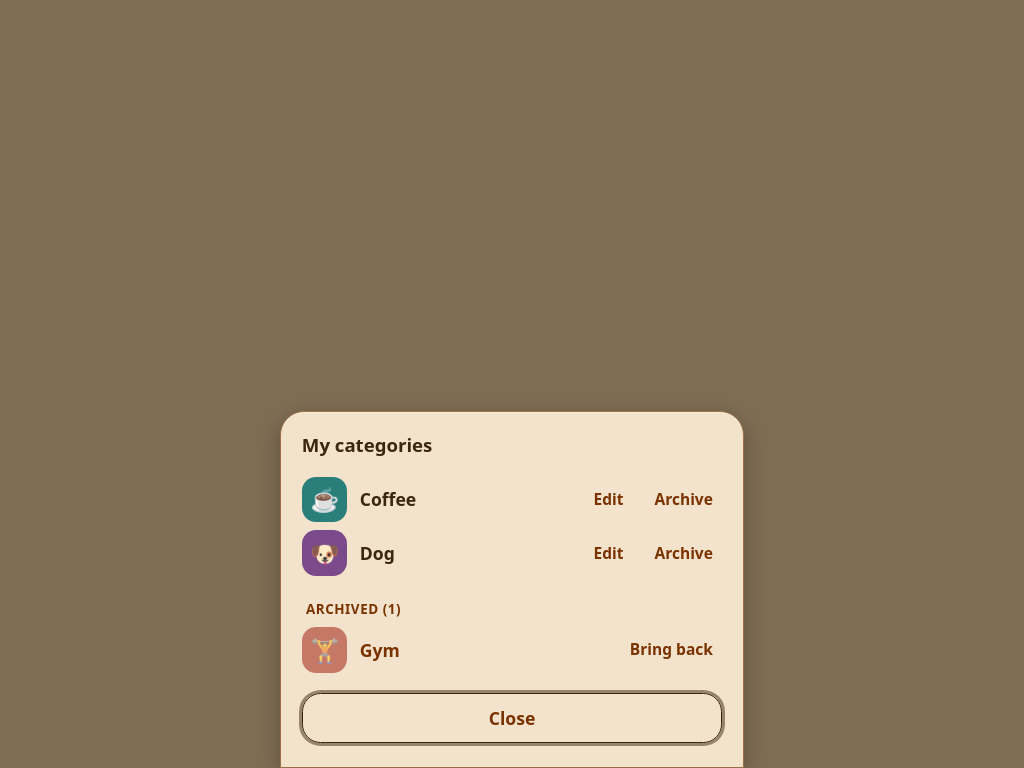
MyCategoriesSheet › editing › shows the CATEGORY_NAME_TAKEN text and marks the right field red
Click the button "Edit" in the row of "Coffee". click: (609, 499)
box: [584, 477, 633, 522]
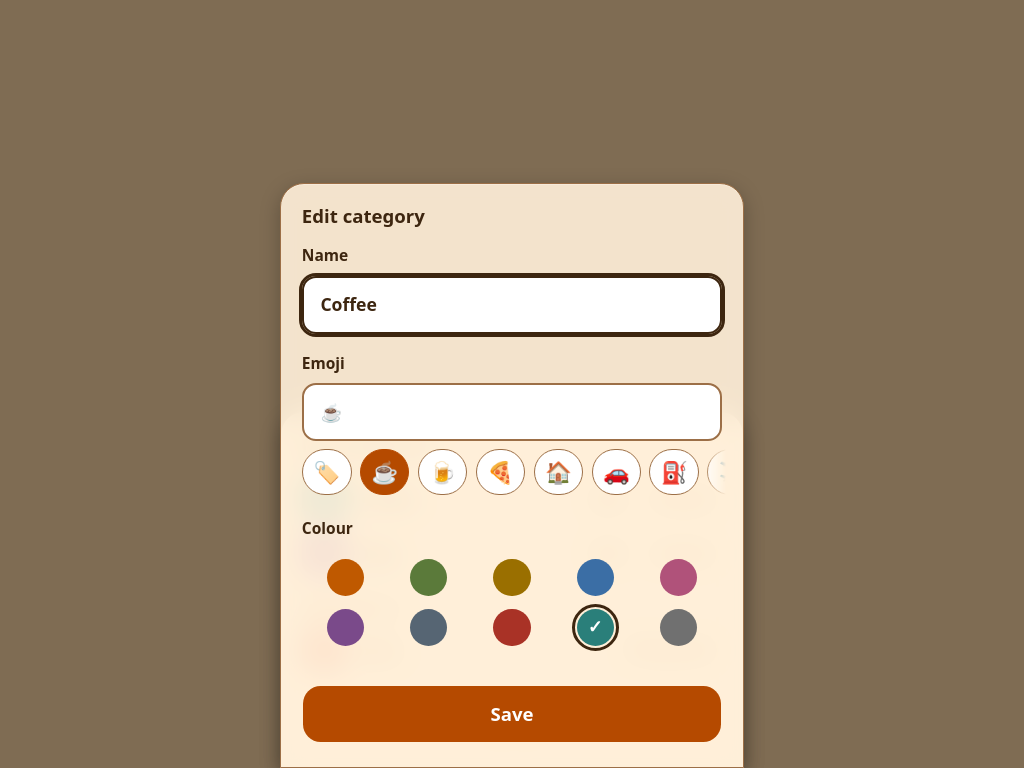
Click the button "Save". click: (512, 714)
box: [302, 685, 722, 743]
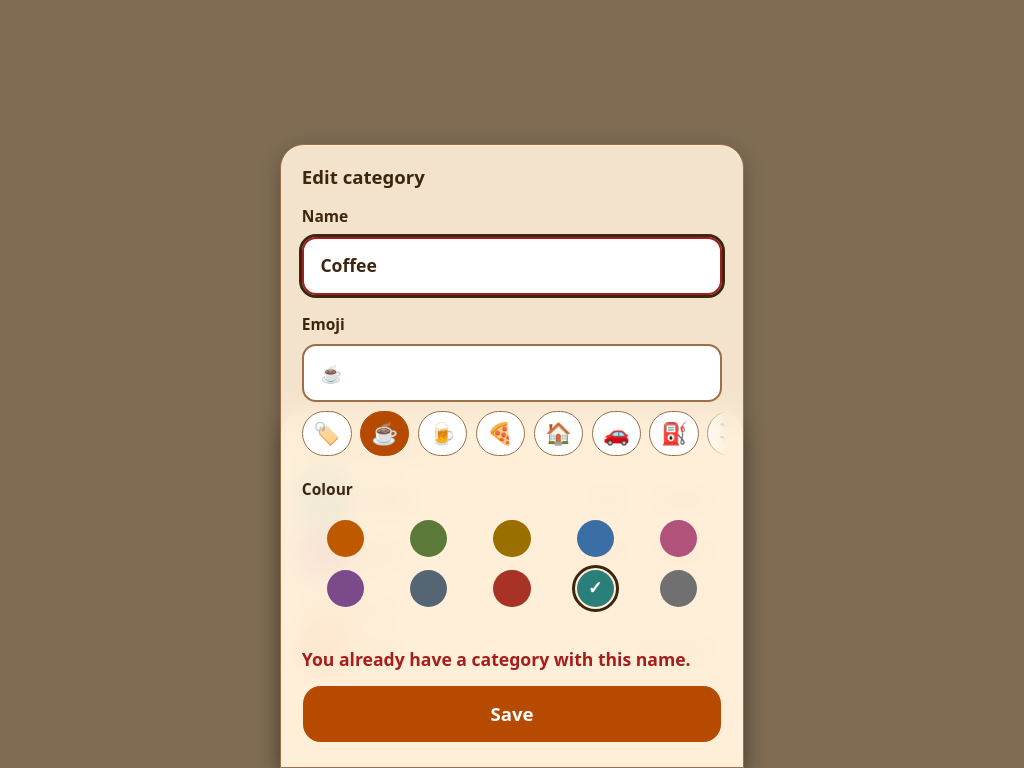
Result: the message reads "You already have a category with this name." at [302, 647, 691, 671]
